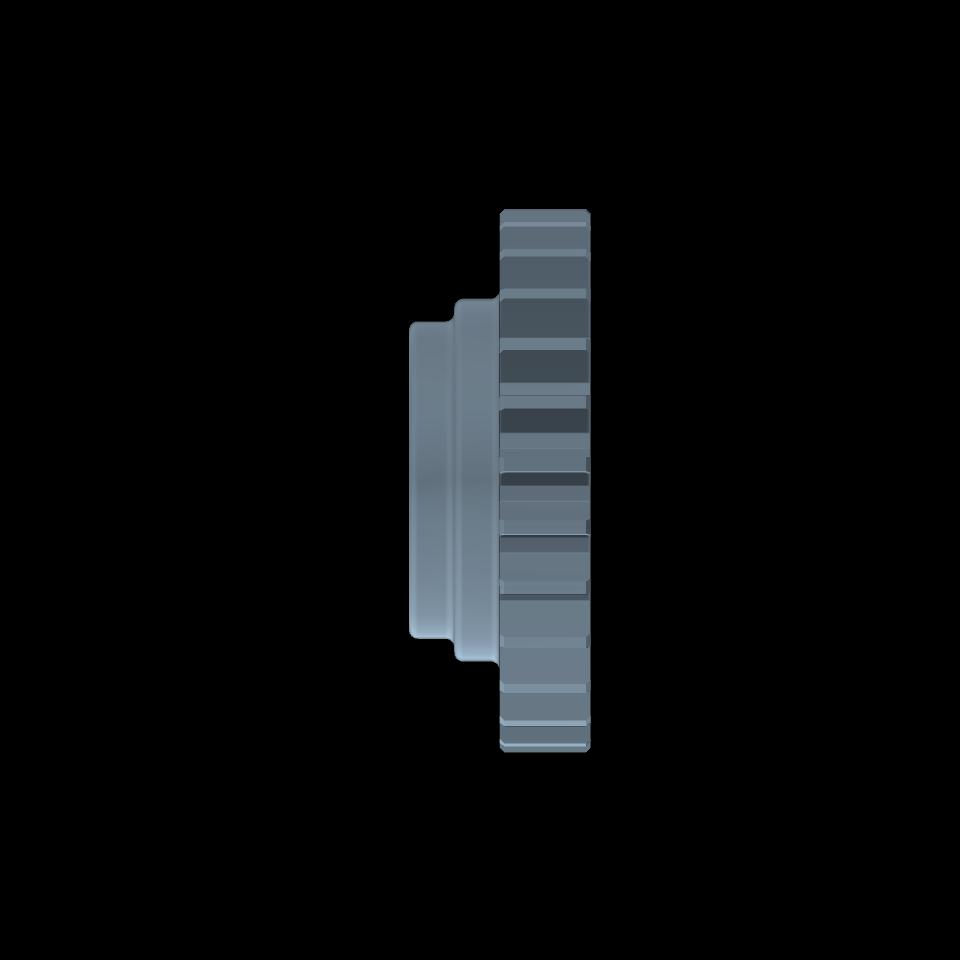Straight: (504, 208, 585, 750)
